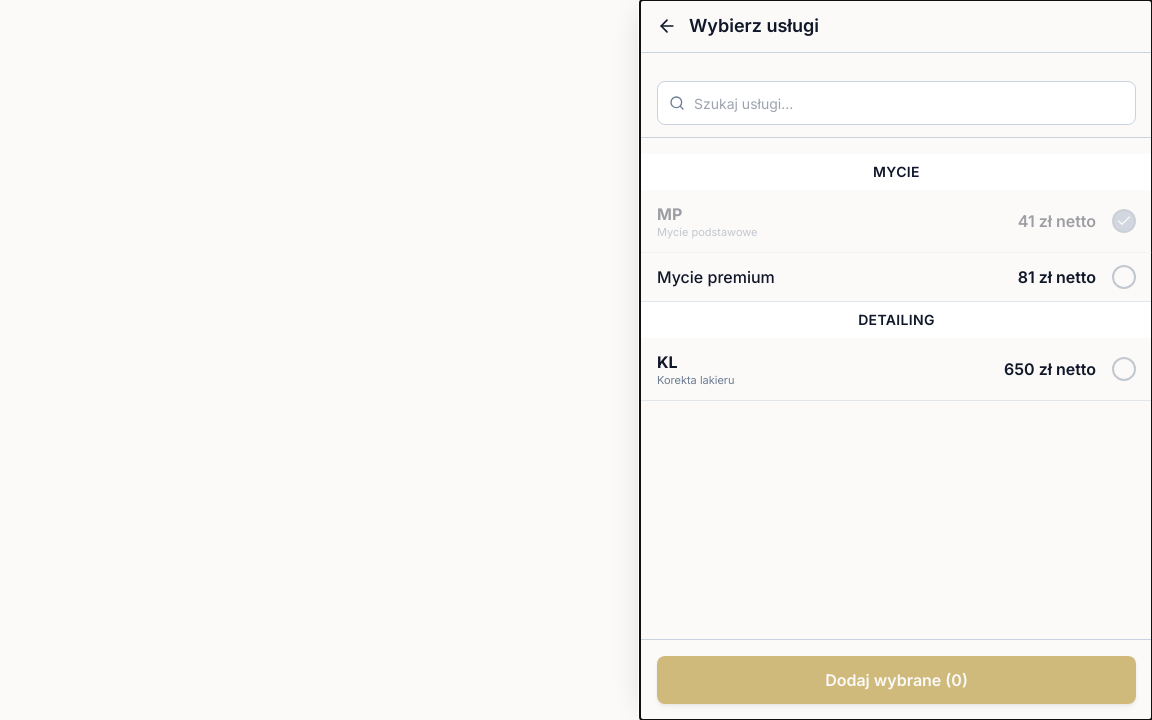
Test: OfferProductPickerDrawer › already-added products show as disabled and are not selectable
Expected: the button with test id "product-item" that starts with "Mycie podstawowe" is disabled, [641, 190, 1151, 253]
// Clicking the disabled item should not make it selectable
Click the button with test id "product-item" showing "Mycie premium 81 zł netto" at {"x": 716, "y": 277}, box [641, 253, 1151, 302]
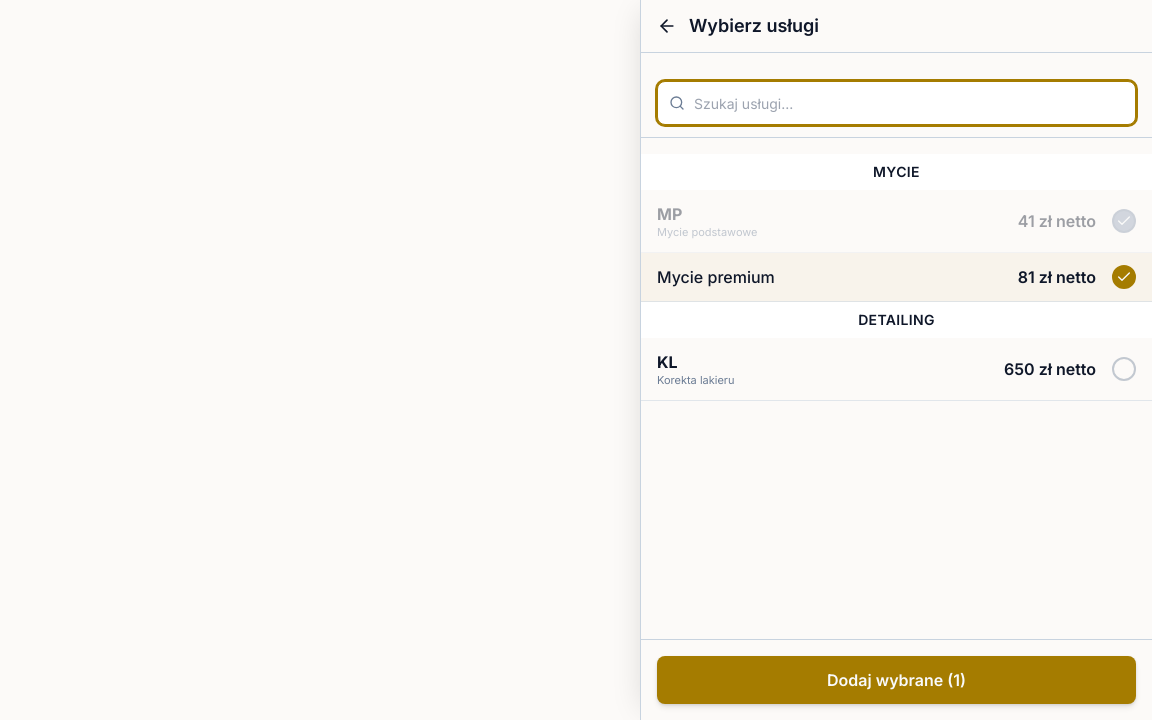
Now the button with test id "confirm-button" is enabled, box [657, 656, 1136, 704]
Now the button with test id "confirm-button" reads "Dodaj wybrane (1)", box [657, 656, 1136, 704]
